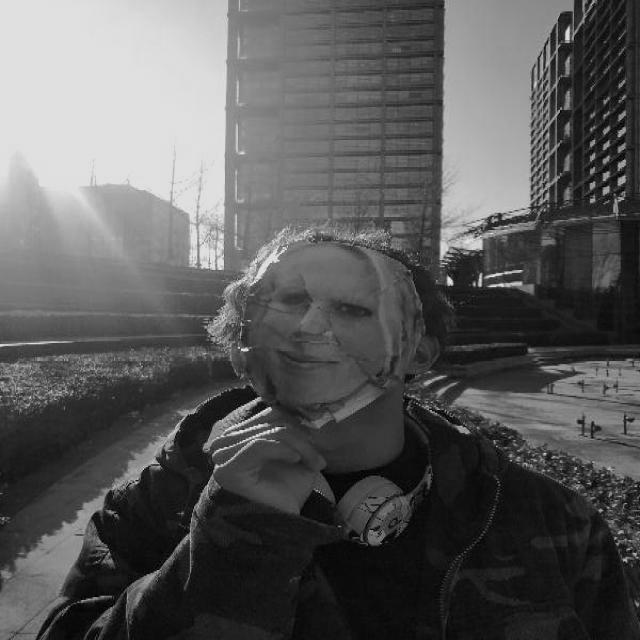fake: (264, 248, 372, 406)
